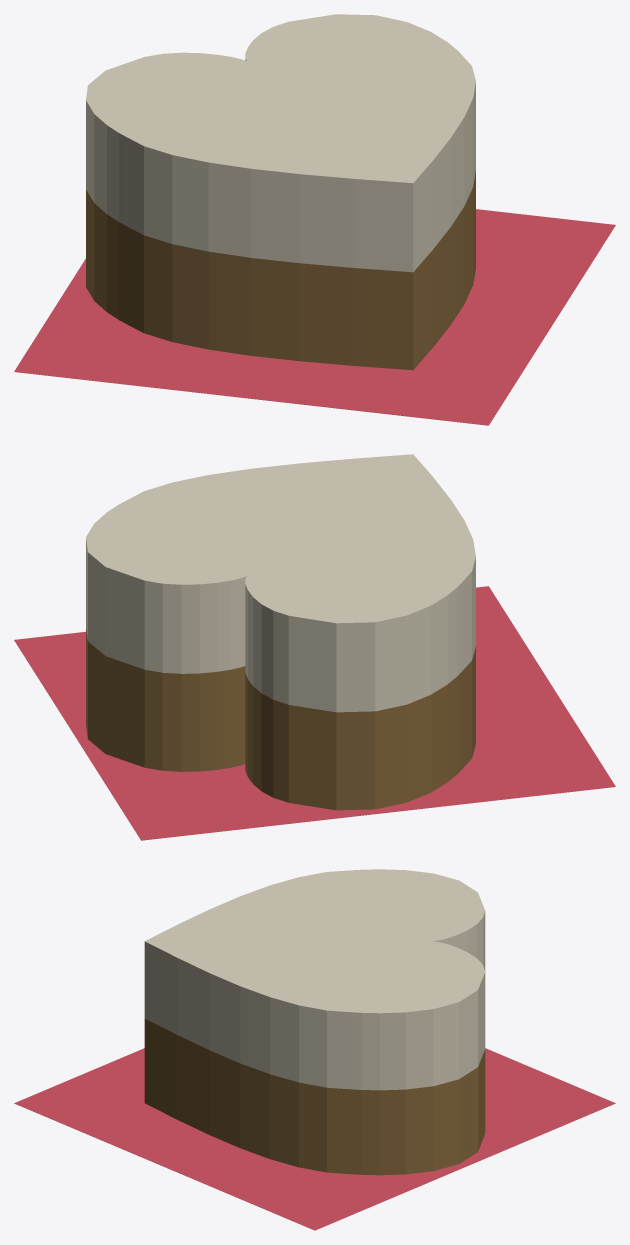
File: CCV.glb
3 renders of one model, top to bottom at view 1: azimuth 30°, elevation 25°; view 2: azimuth 150°, elevation 25°; view 3: azimuth 270°, elevation 25°, orthographic. The views are drawn at different scales.
Visible parts, largest first — view 1: Mesh_Mesh_head_geo.001_lambert2SG.001; view 2: Mesh_Mesh_head_geo.001_lambert2SG.001; view 3: Mesh_Mesh_head_geo.001_lambert2SG.001.
Boxes of the visible parts, x1,y1,x2,y2 form: Mesh_Mesh_head_geo.001_lambert2SG.001: (14, 14, 615, 425); Mesh_Mesh_head_geo.001_lambert2SG.001: (14, 454, 615, 840); Mesh_Mesh_head_geo.001_lambert2SG.001: (14, 869, 615, 1230).
Bounding box in the file's own units: 0.0354 × 0.0105 × 0.0354.
